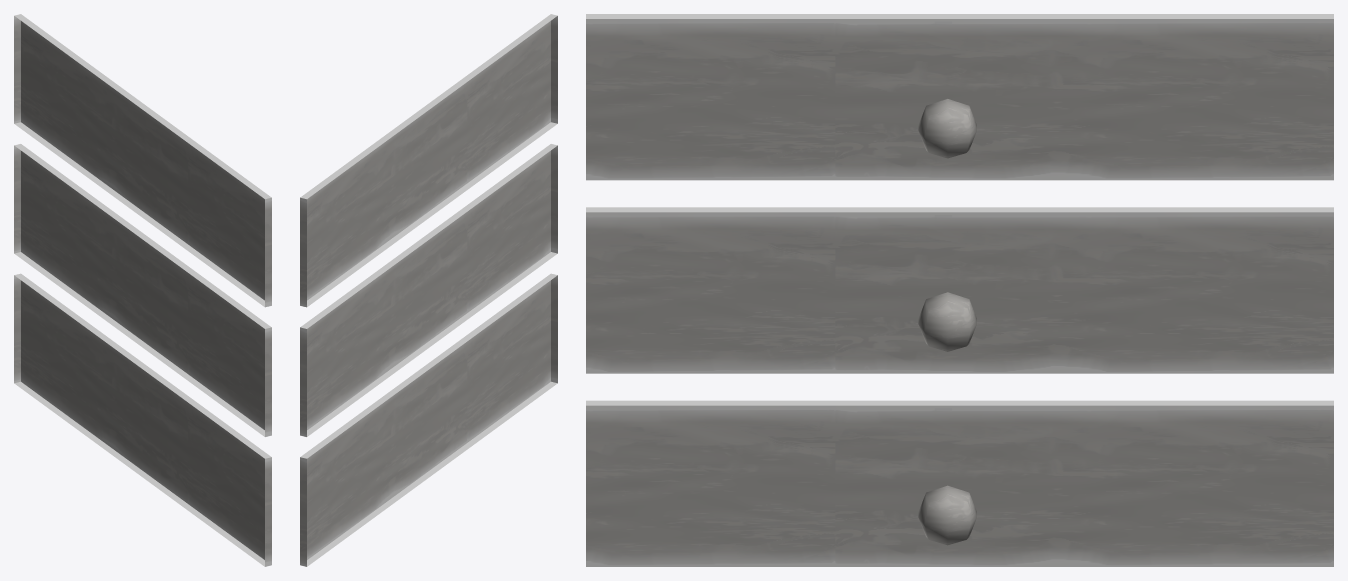
The model's file is schublade.fbx.
The picture shows the model from 3 angles, left to right: view 1: azimuth 30°, elevation 25°; view 2: azimuth 150°, elevation 25°; view 3: azimuth 270°, elevation 25°; orthographic projection. The views are drawn at different scales.
Visible parts, largest first — view 1: Plane.001; view 2: Plane.001; view 3: Plane.001.
Boxes of the visible parts, bbox=[...] form: Plane.001: bbox=[14, 14, 271, 566]; Plane.001: bbox=[300, 14, 557, 566]; Plane.001: bbox=[586, 14, 1333, 566].
Bounding box in the file's own units: 11.27 × 105 × 130.
